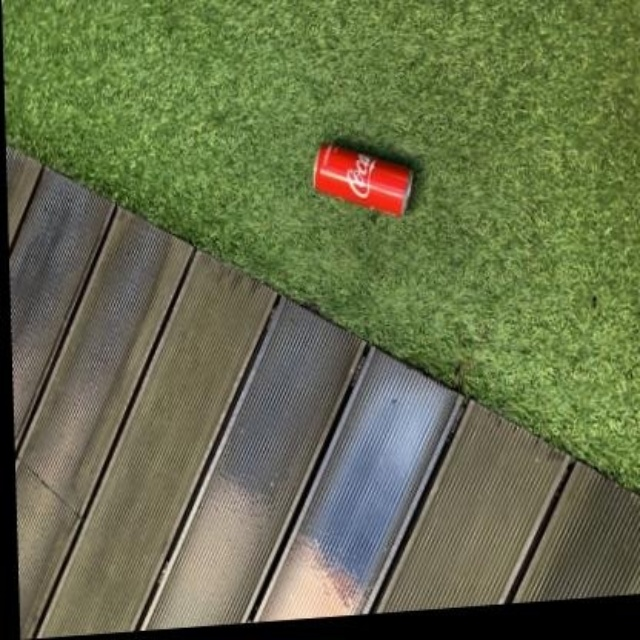trash: (314, 145, 411, 215)
